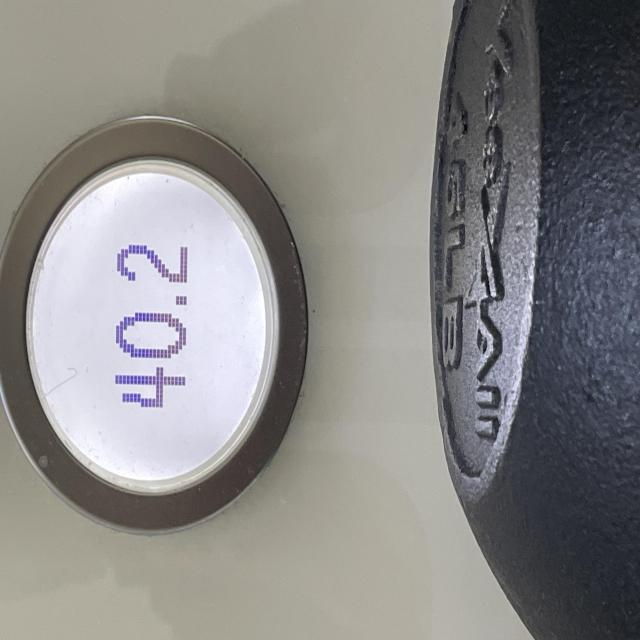ws: (0, 116, 310, 537)
